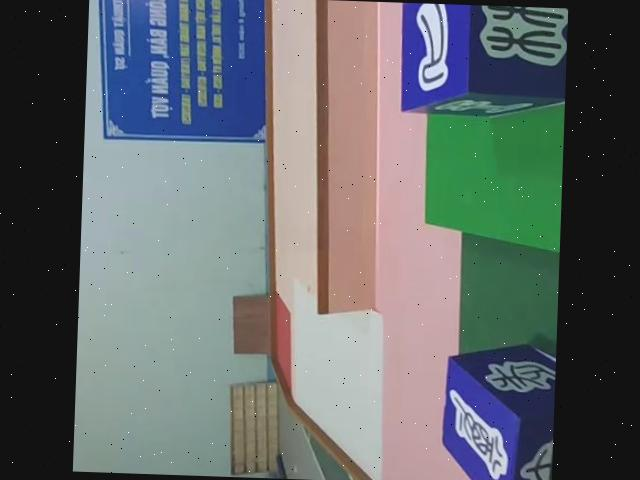R2 Fake Blue: (392, 3, 569, 121), (440, 343, 556, 480)
